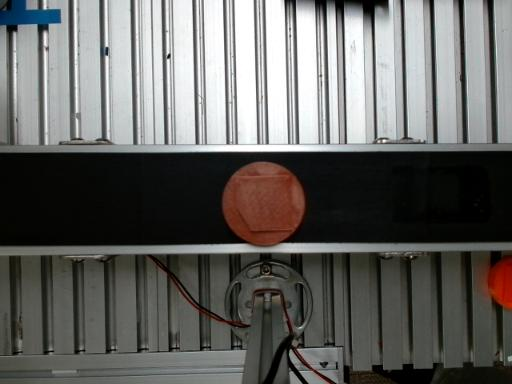Brown_Waper: (222, 162, 305, 246)
Not_Square: (236, 175, 292, 231)
